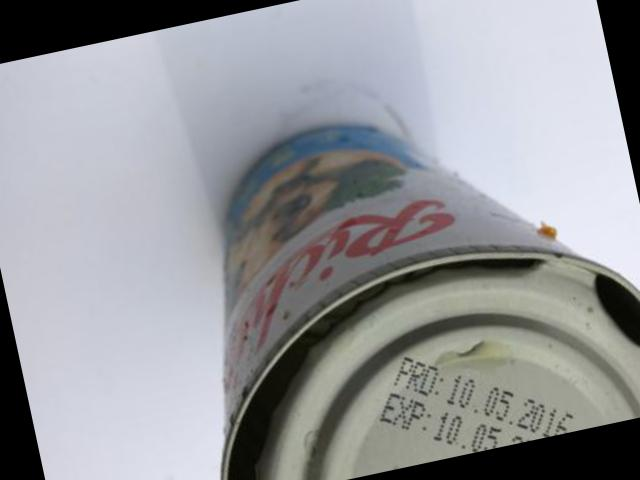metal: (222, 129, 640, 480)
